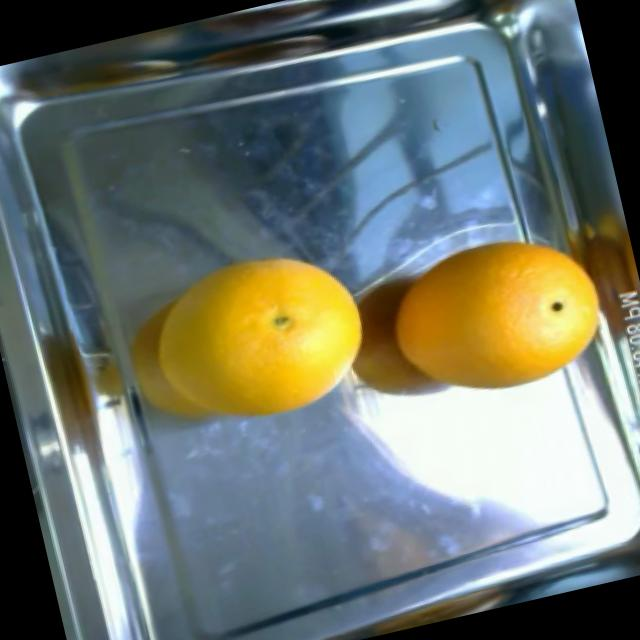Fruit: (186, 222, 399, 438)
